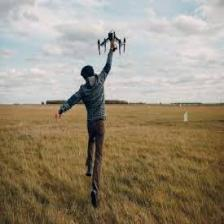drone: (91, 22, 131, 59)
